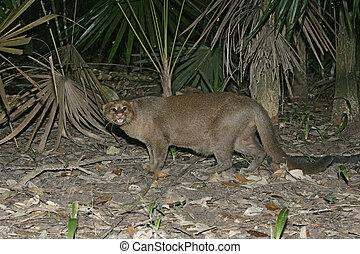Jaguarundi: (93, 87, 334, 183)
